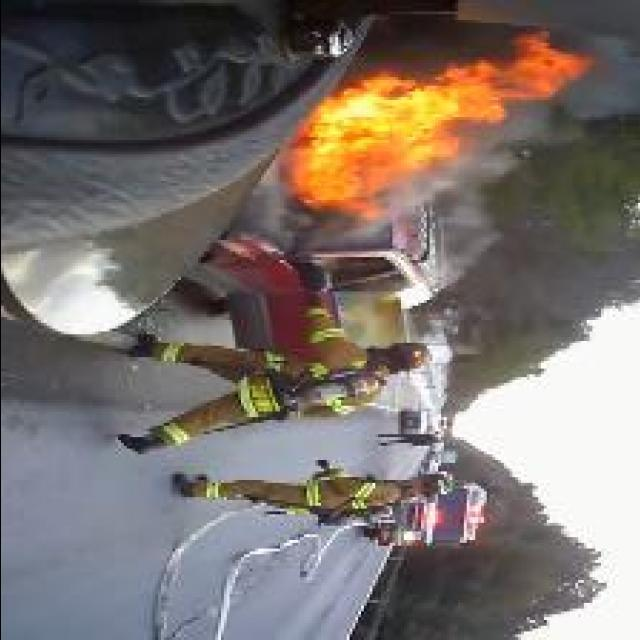Fire: (288, 29, 602, 222)
